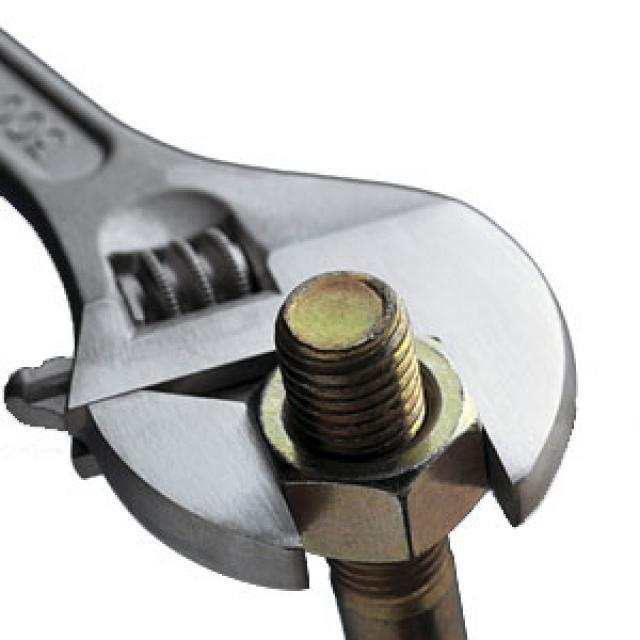wrench: (0, 31, 586, 603)
